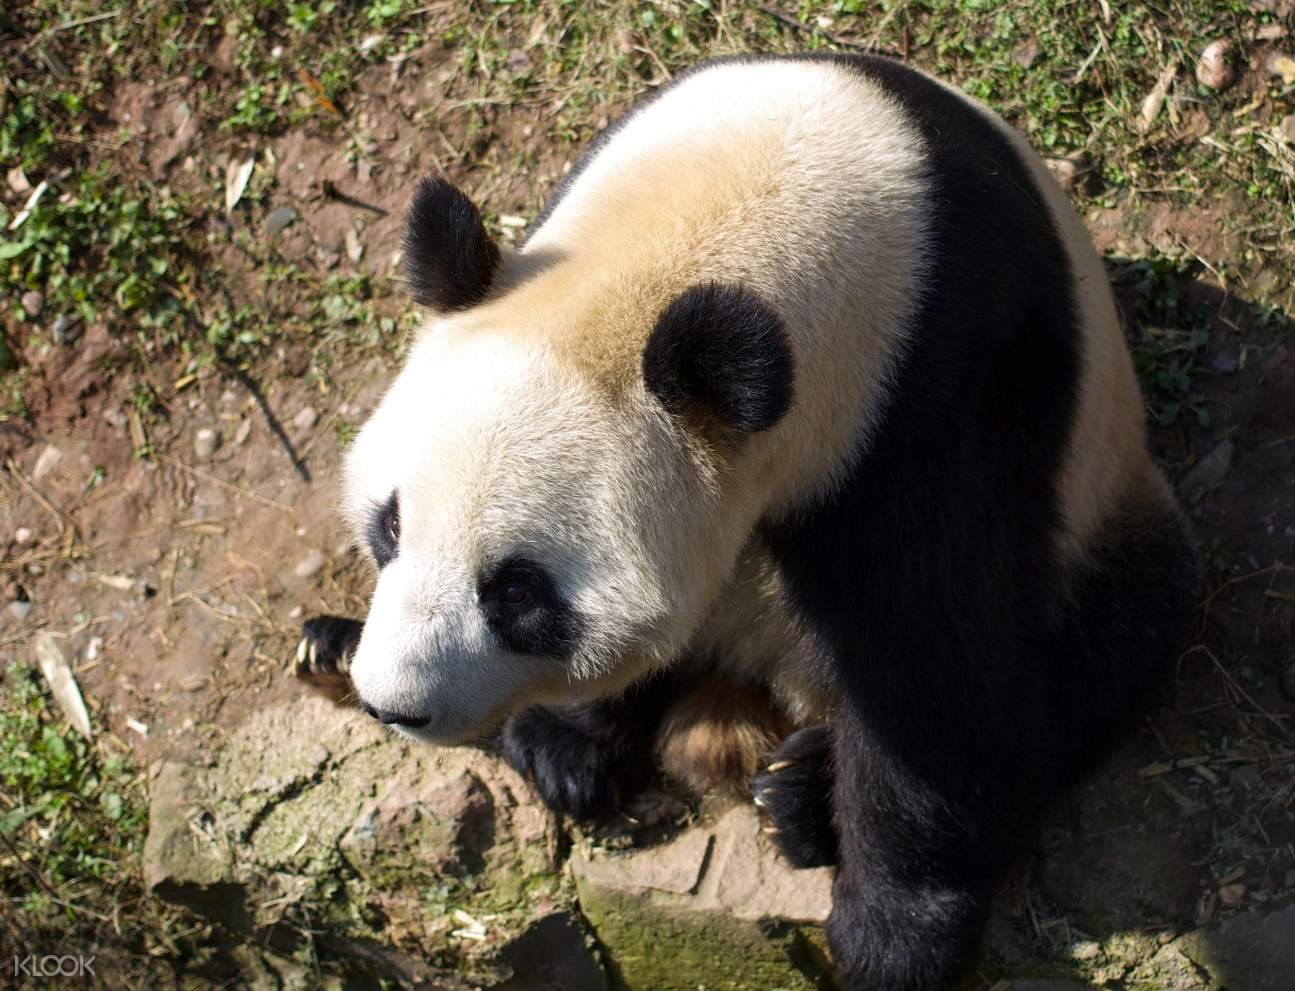panda: (298, 44, 1207, 988)
